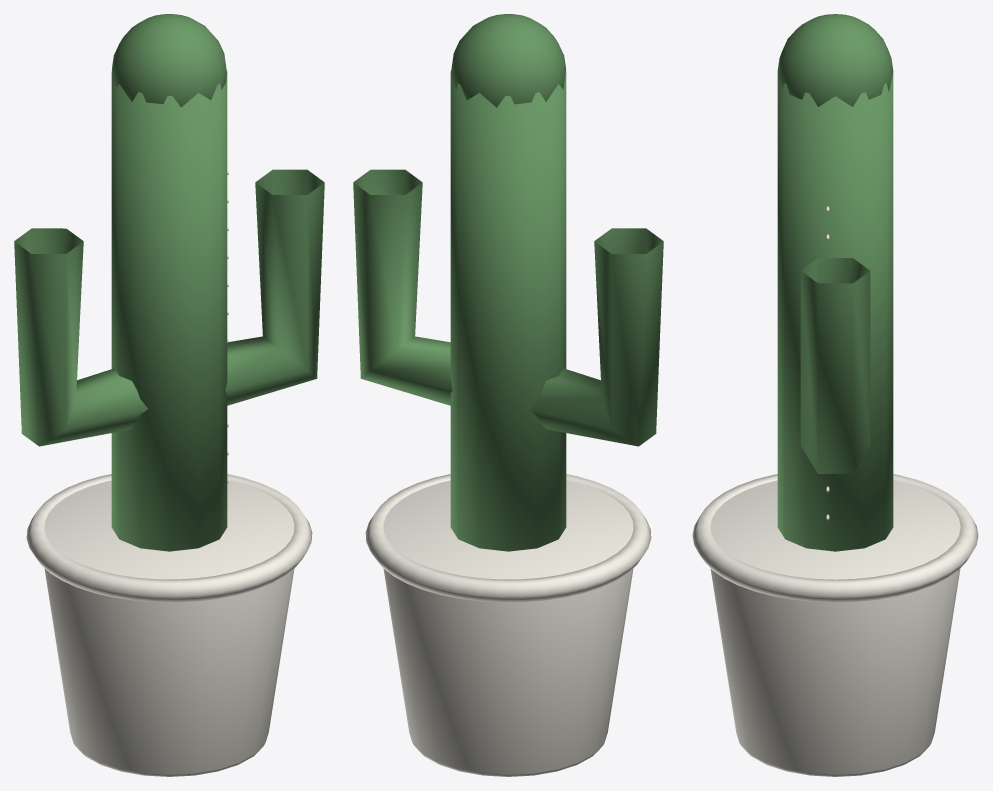
File: atelier-cactus.glb
3 renders of one model, left to right at view 1: azimuth 30°, elevation 25°; view 2: azimuth 150°, elevation 25°; view 3: azimuth 270°, elevation 25°, orthographic.
Visible parts, largest first — view 1: leaf.007, ceramic.043; view 2: leaf.007, ceramic.043; view 3: leaf.007, ceramic.043.
Part boxes in pixels (box(x1,y1,x2,y2)): leaf.007: box(14, 14, 324, 551); ceramic.043: box(26, 172, 312, 776); leaf.007: box(353, 14, 663, 551); ceramic.043: box(365, 474, 651, 776); leaf.007: box(777, 14, 893, 551); ceramic.043: box(692, 206, 978, 776).
Bounding box in the file's own units: 0.438 × 1.02 × 0.37.
